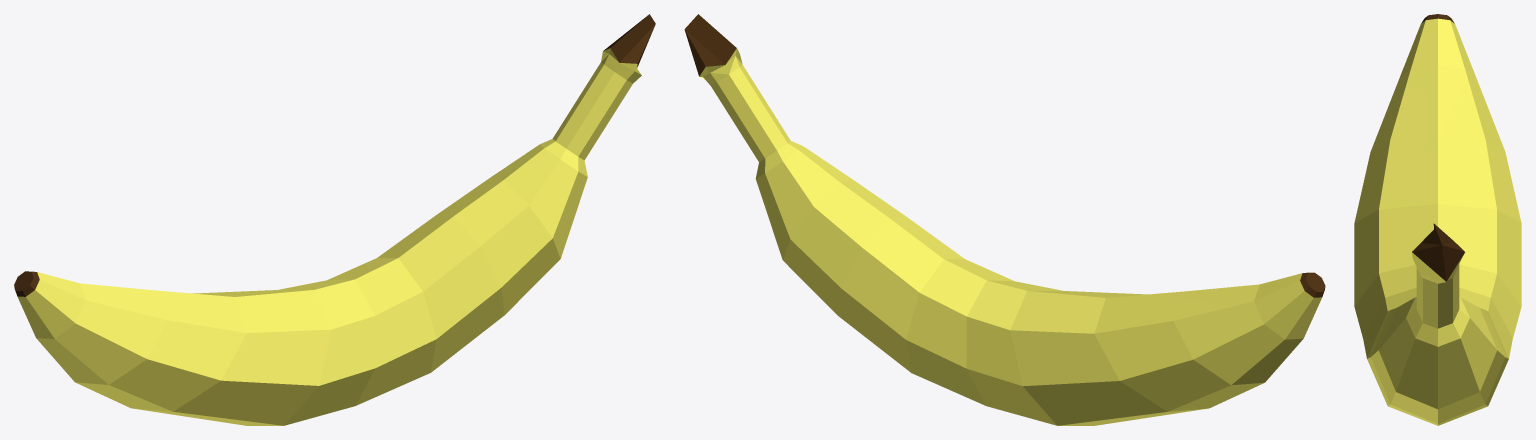
Rendered from banana.glb.
3 renders of one model, left to right at view 1: azimuth 30°, elevation 25°; view 2: azimuth 150°, elevation 25°; view 3: azimuth 270°, elevation 25°, orthographic. The views are drawn at different scales.
Visible parts, largest first — view 1: 円; view 2: 円; view 3: 円.
Part boxes in pixels (x1,y1,x2,y2): 円: (14, 14, 655, 425); 円: (684, 14, 1325, 425); 円: (1354, 14, 1521, 425).
Size of the model in its own units: 4.41 by 2.08 by 0.9122.
